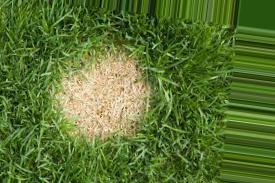patch: (79, 72, 131, 122)
